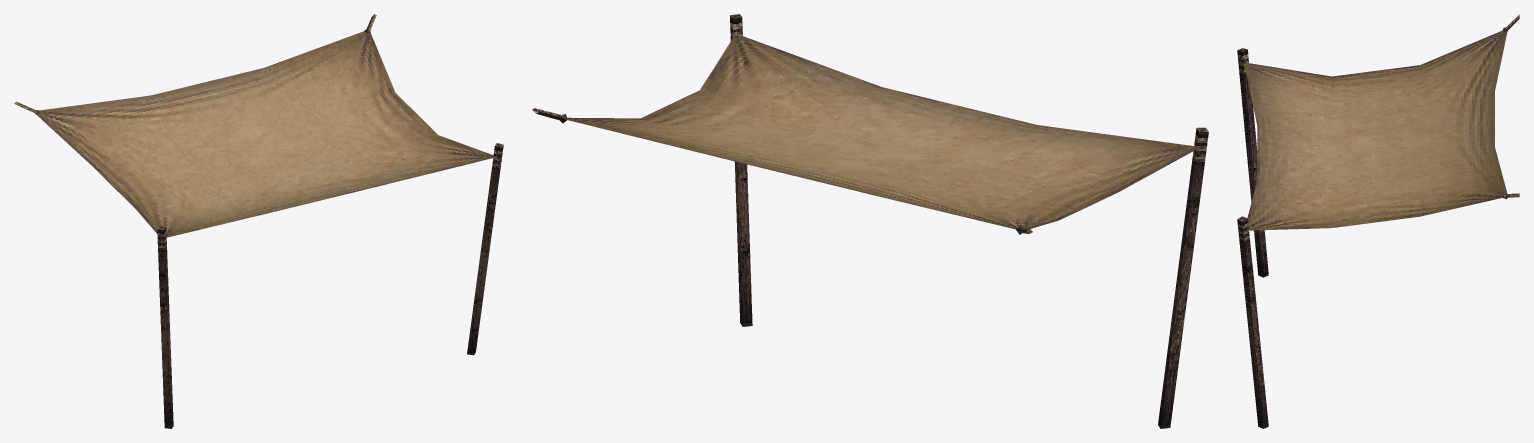
File: oga_tent.glb
3 views of the same model, side by side, from view 1: azimuth 30°, elevation 25°; view 2: azimuth 150°, elevation 25°; view 3: azimuth 270°, elevation 25° (orthographic). The views are drawn at different scales.
Visible parts, largest first — view 1: oga_tent; view 2: oga_tent; view 3: oga_tent.
Part boxes in pixels (x1,y1,x2,y2): oga_tent: (14, 14, 503, 428); oga_tent: (532, 14, 1208, 428); oga_tent: (1237, 14, 1519, 428).
Bounding box in the file's own units: 3.98 × 2.53 × 2.62.
Materials: 1 (1 with a texture image).
